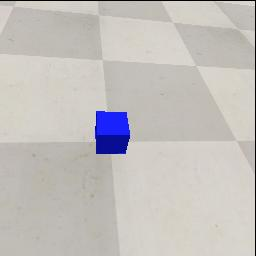box: (95, 111, 130, 154)
